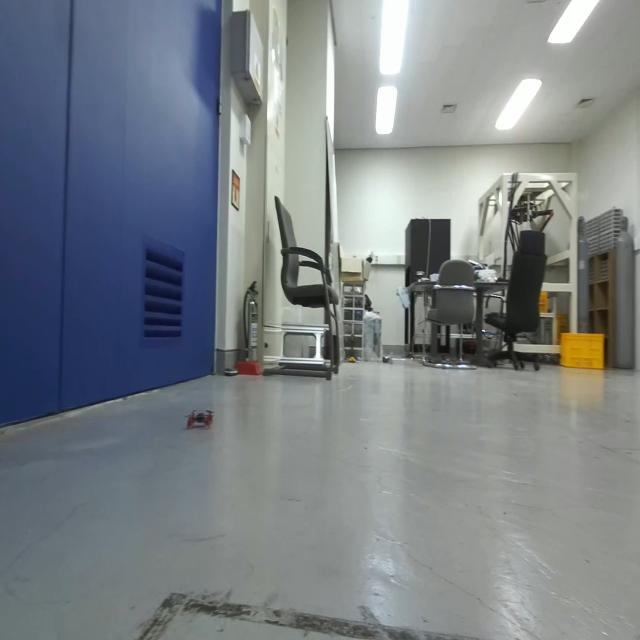crazyflie: (184, 403, 216, 435)
